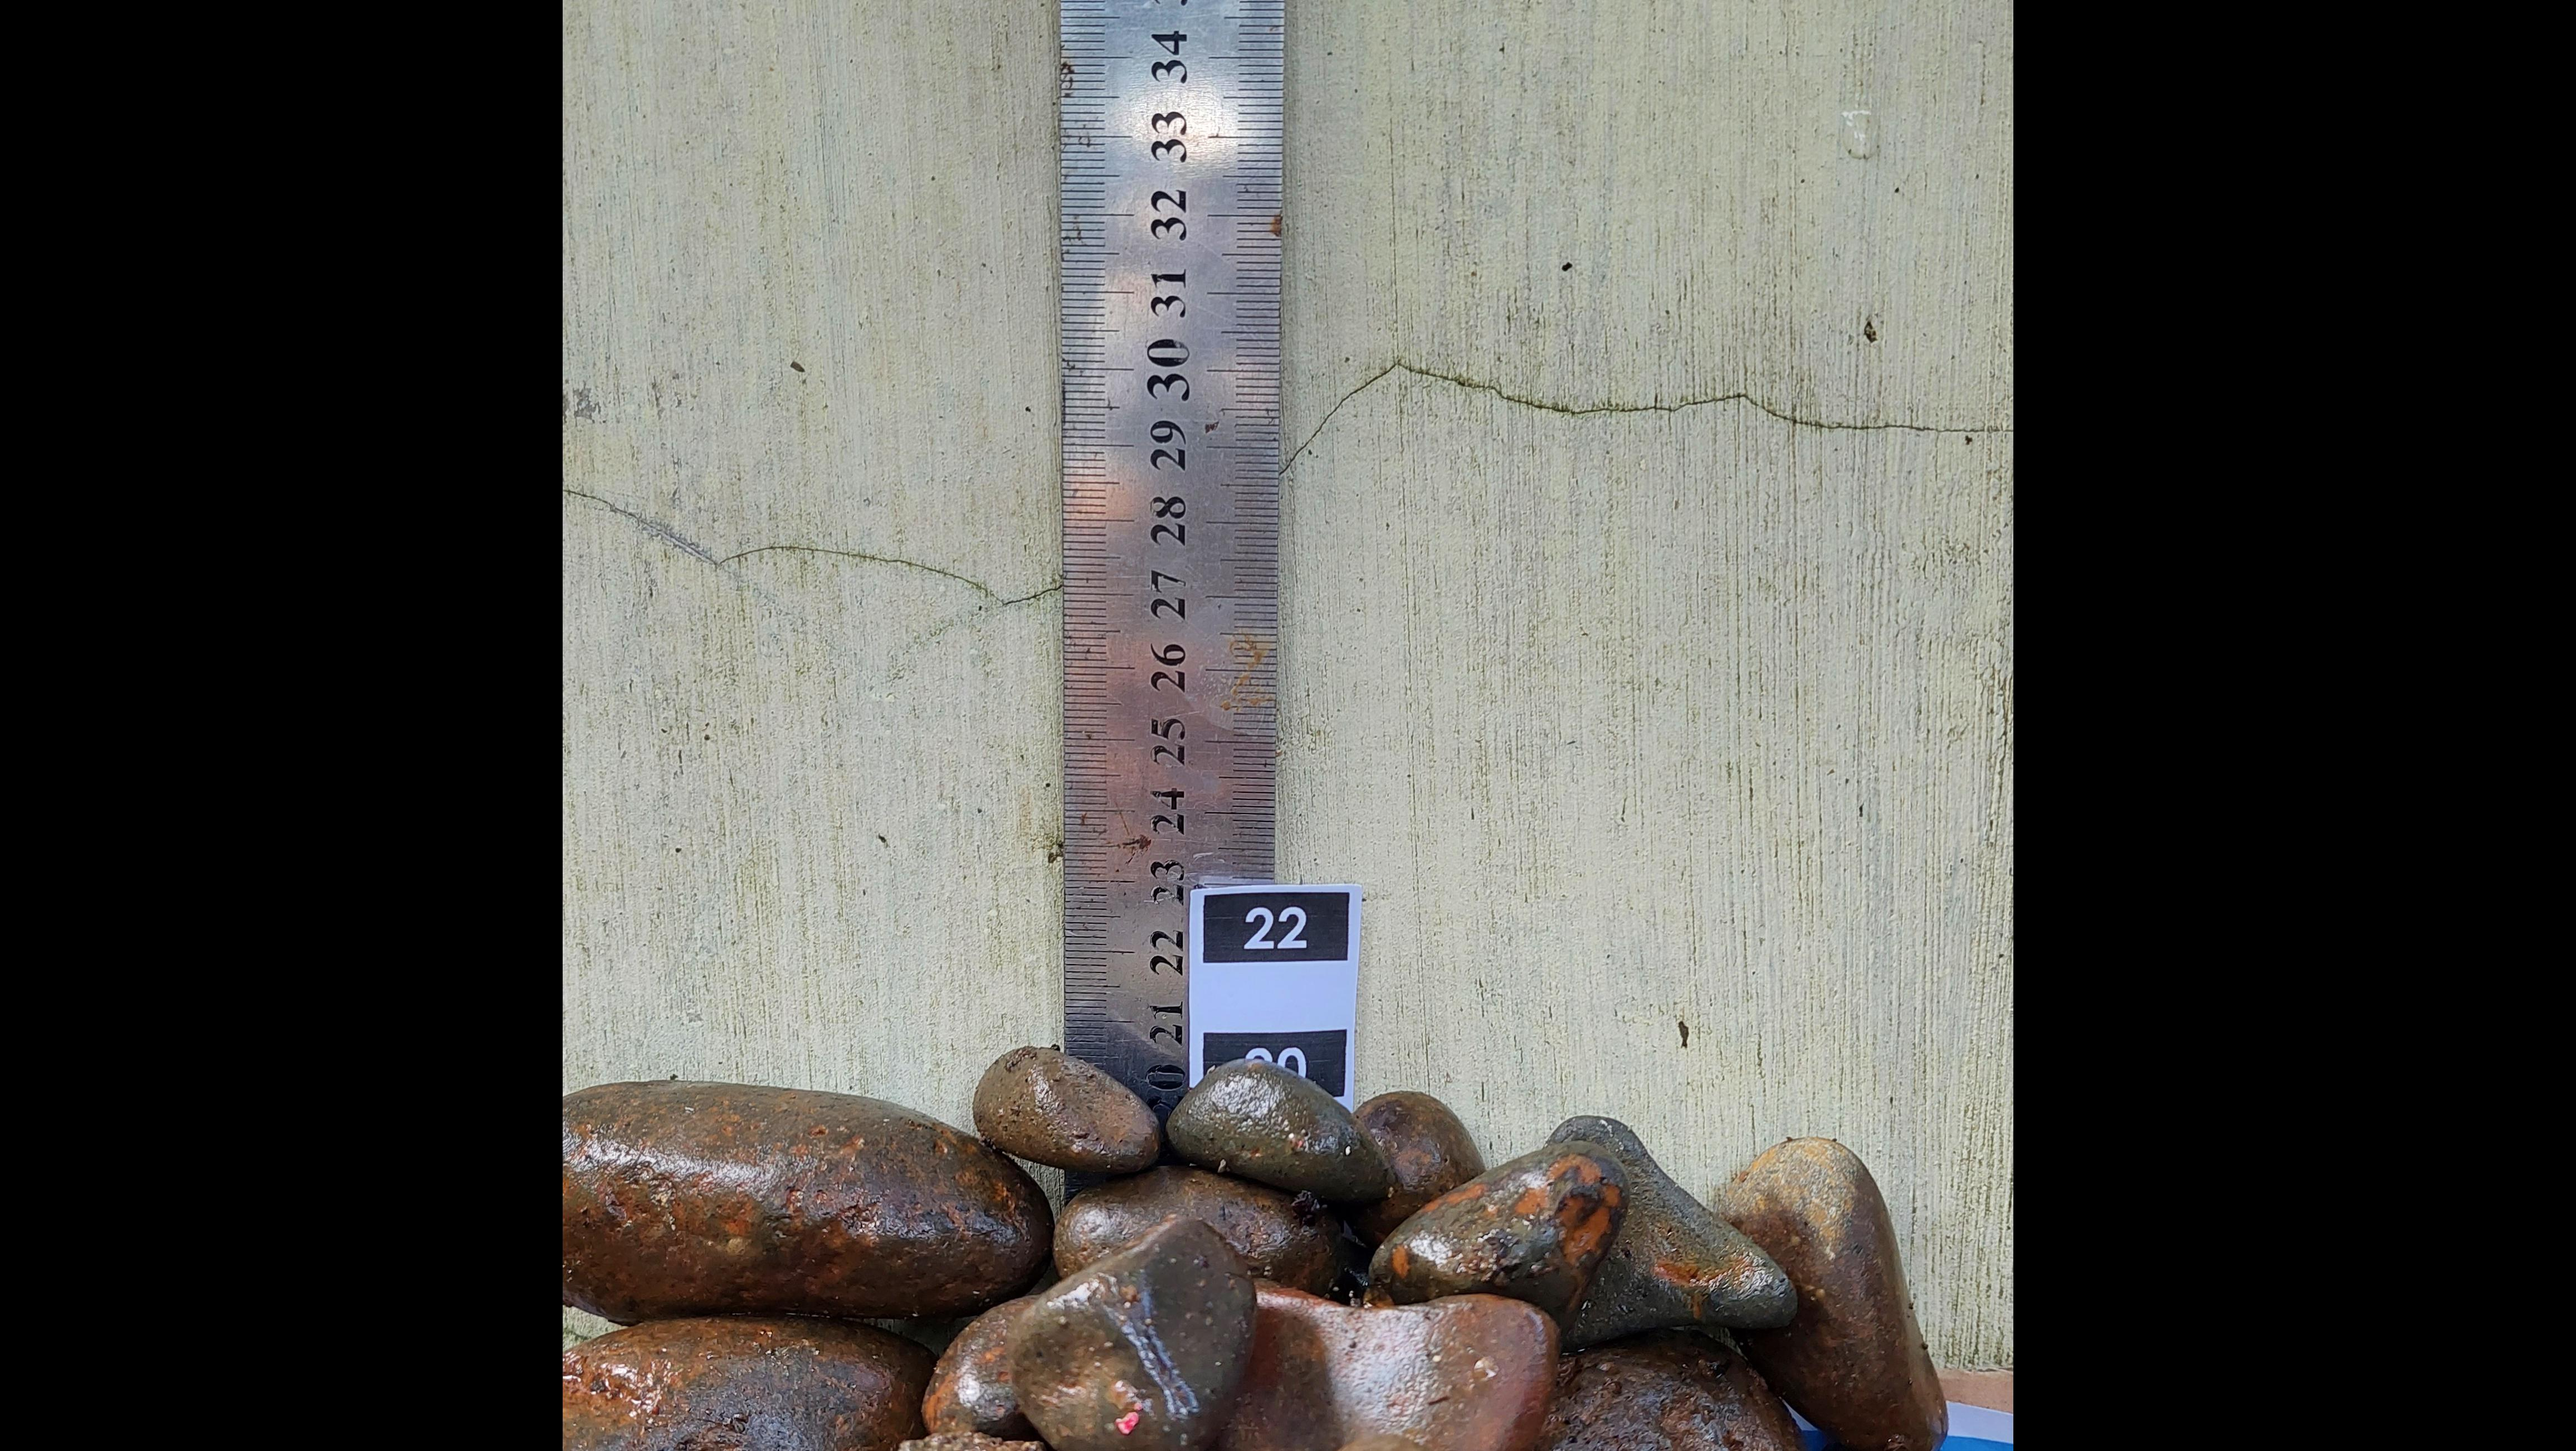kotak_2x1: (1200, 894, 1352, 963)
